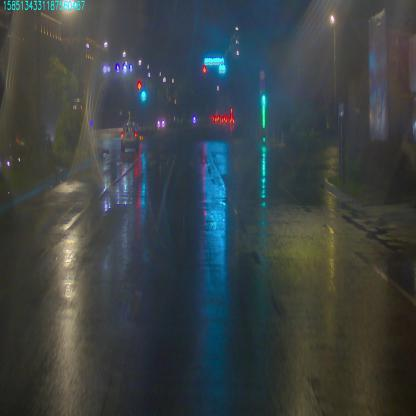traffic-light: (203, 56, 224, 65), (201, 64, 208, 74), (219, 65, 226, 73)
